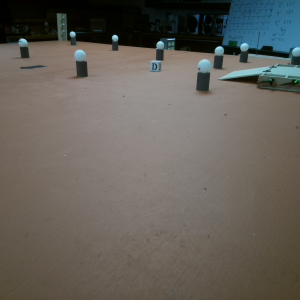blockD: (149, 61, 160, 73)
corner: (56, 12, 68, 40)
obstacle: (197, 60, 210, 94), (74, 49, 89, 78), (18, 38, 29, 59), (214, 46, 223, 69), (155, 41, 164, 59), (110, 35, 119, 50), (241, 43, 248, 61), (292, 47, 299, 65), (69, 31, 76, 45)
side: (258, 74, 300, 93)
slope: (222, 69, 262, 85)
start: (20, 64, 42, 71)
